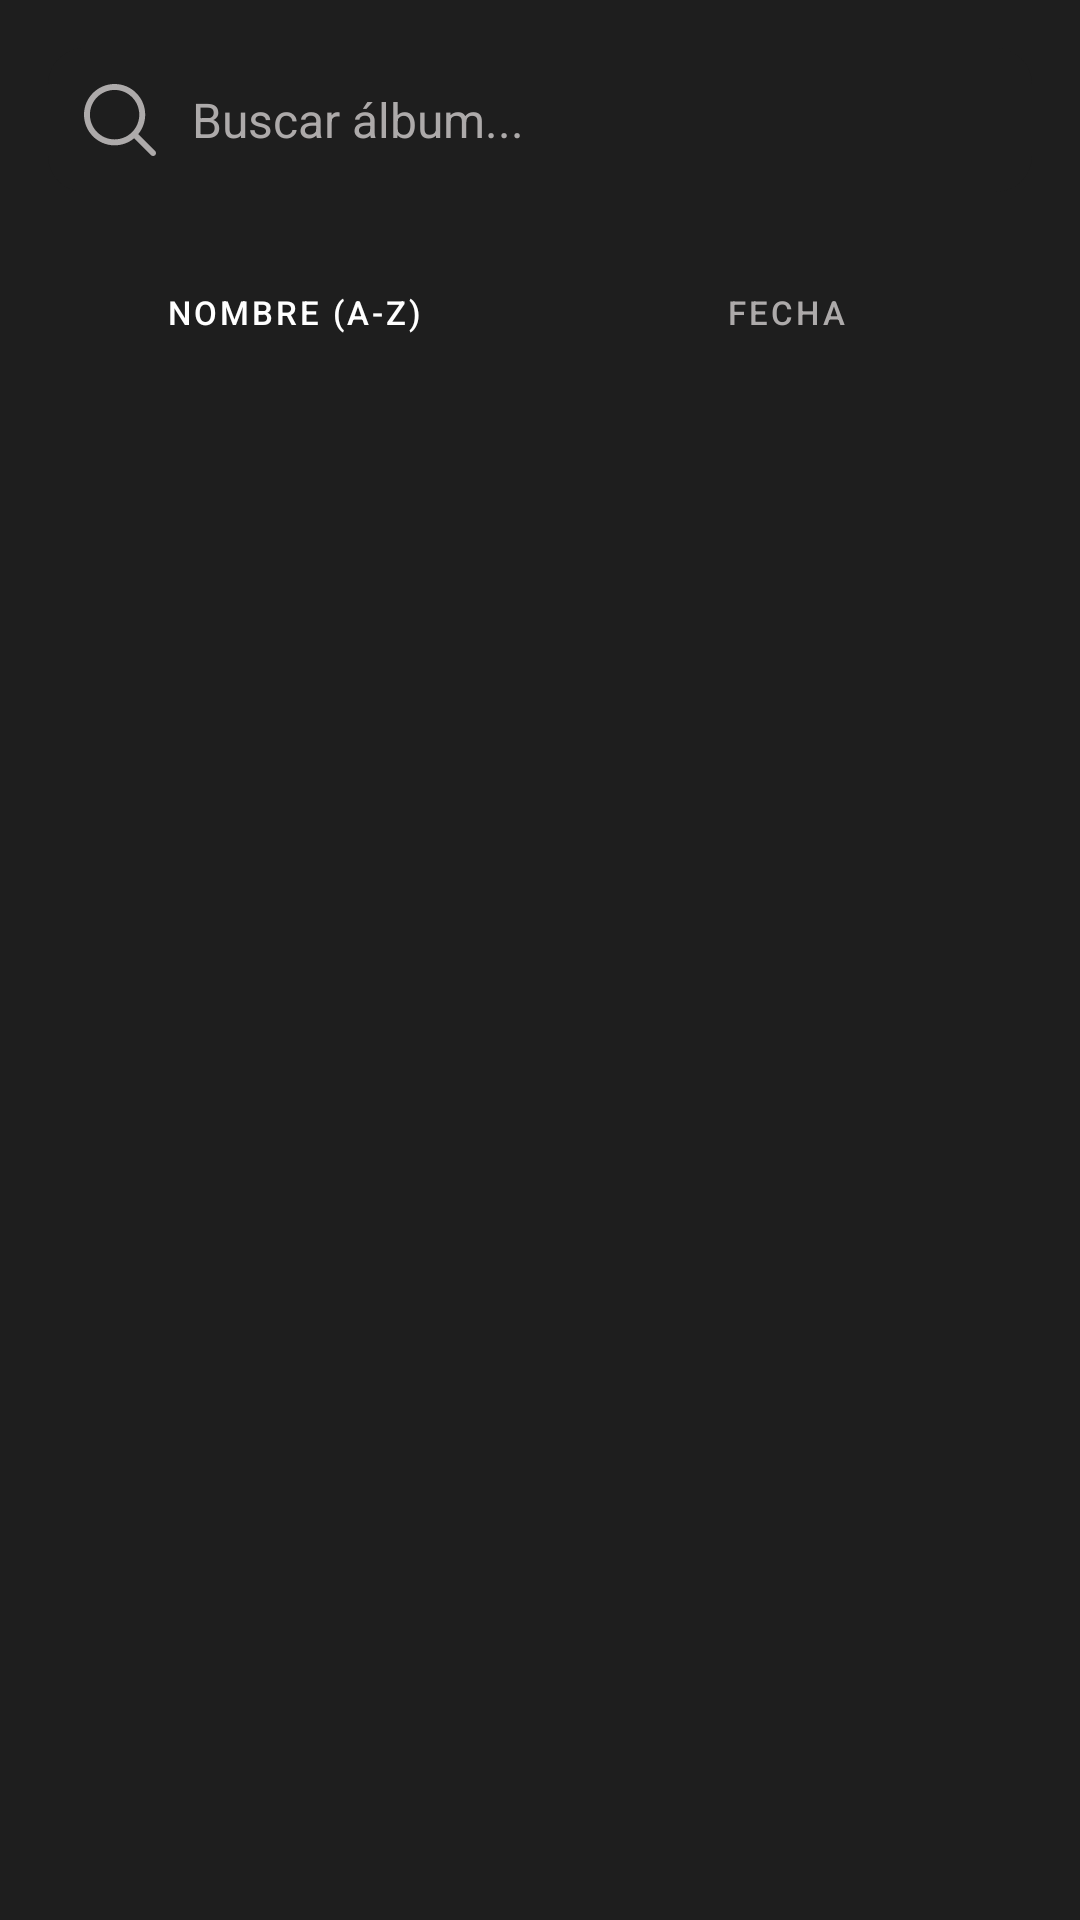

Screen size 1080×1920. Icon name, then its center in pixels as point (x, y):
search: point (120, 120)
